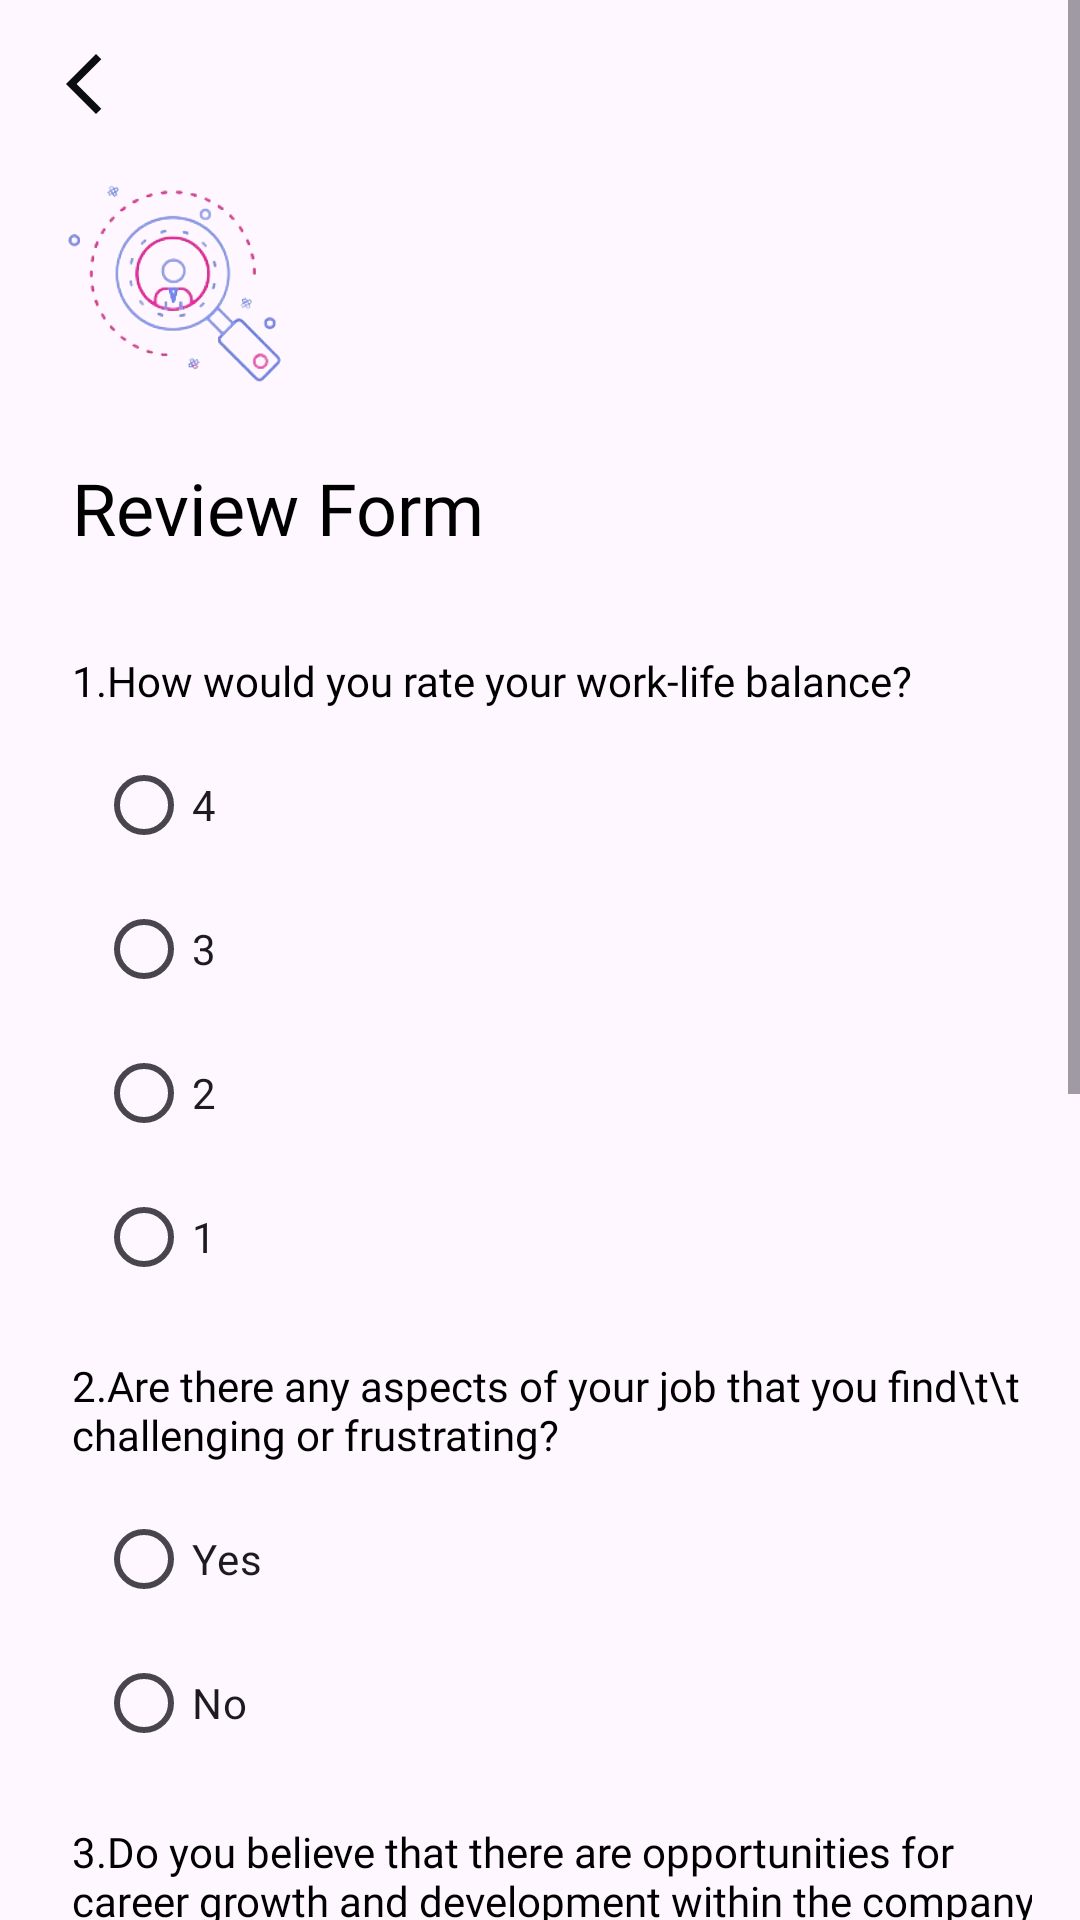

Where to tap for icons on this 1080 × 1920 app screen, as (x=x, y=y):
arrow back: (x=83, y=84)
